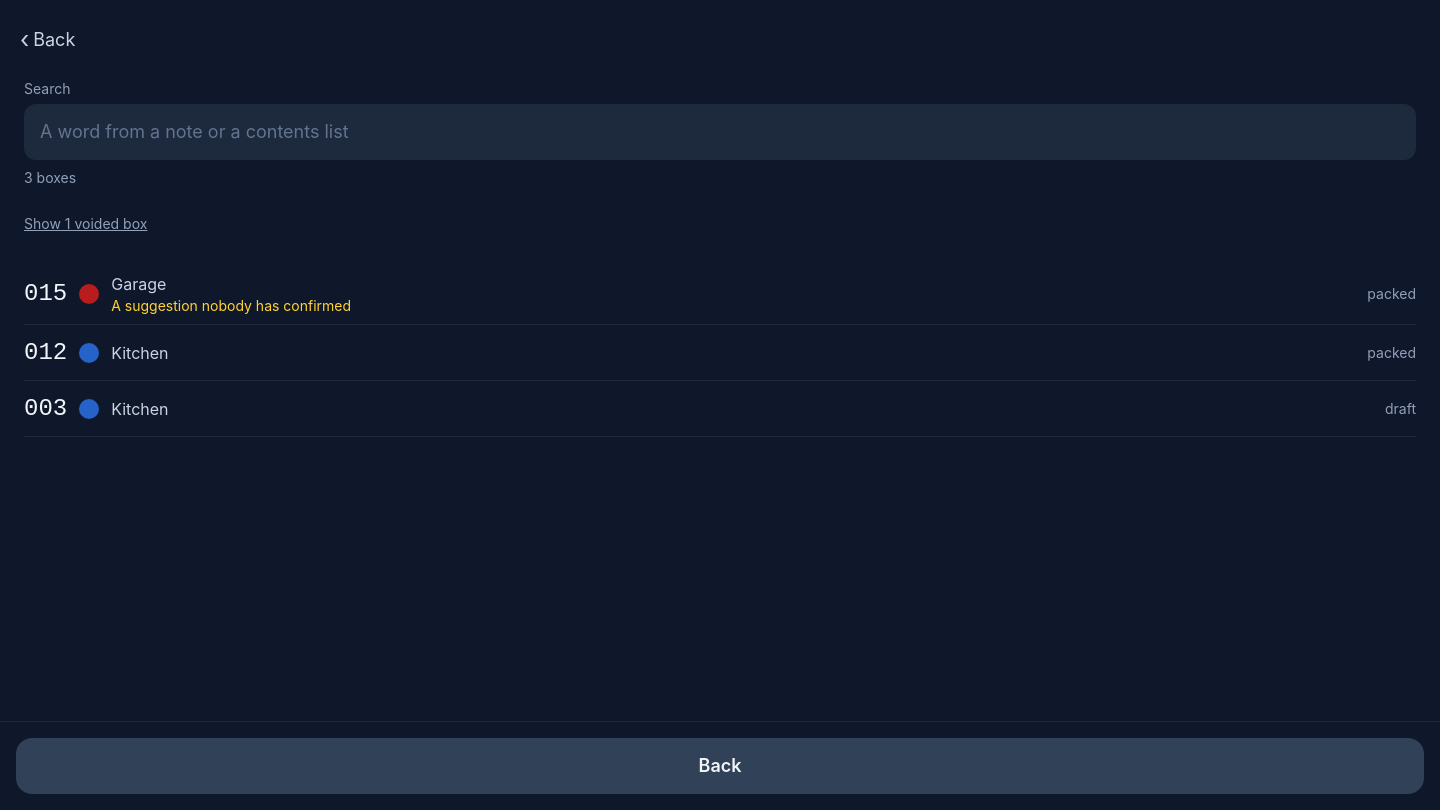
Scenario: BoxList › voided boxes › reveals them on the control, reading as voided
The width and height of the screenshot is (1440, 810).
Click the button "Show 1 voided box".
click(86, 224)  # box 24,196 -> 147,252
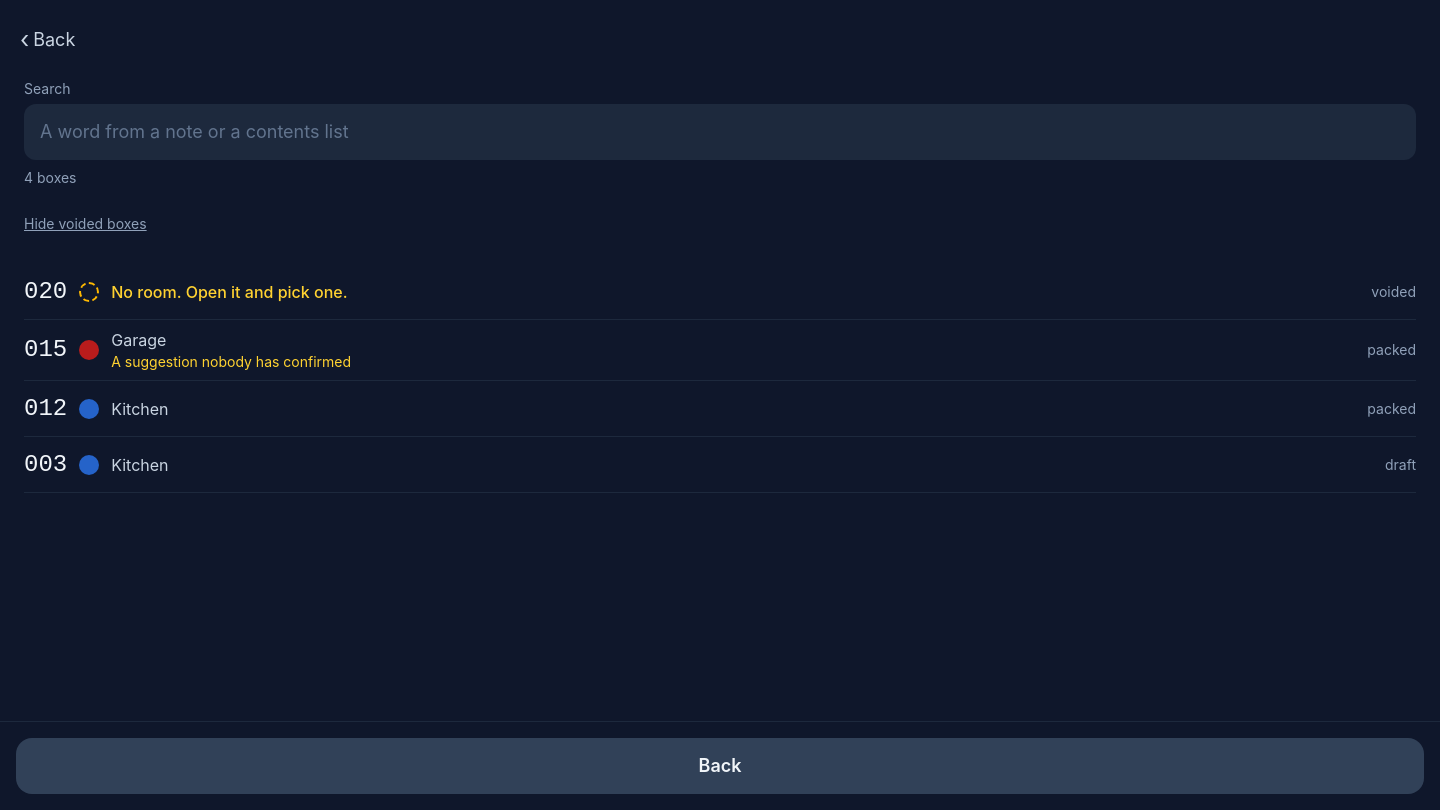
Expected: the text "020" is shown, 24,276 -> 67,308
Expected: the text "voided" is shown, 1371,282 -> 1416,302
